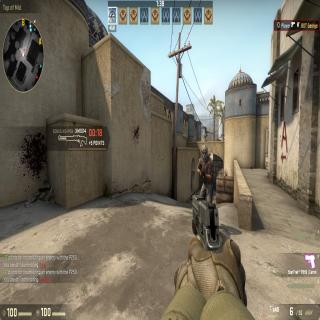T-Body: (195, 143, 216, 204)
T-Head: (200, 144, 209, 160)
